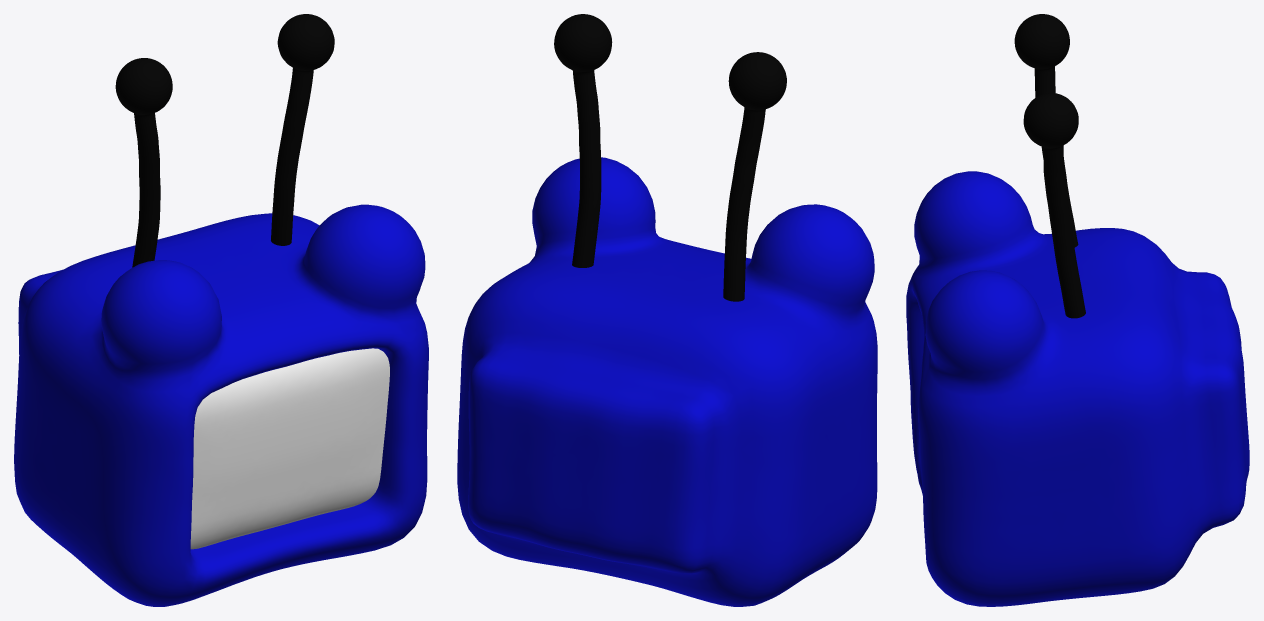
File: tvhead.obj
The picture shows the model from 3 angles, left to right: view 1: azimuth 30°, elevation 25°; view 2: azimuth 150°, elevation 25°; view 3: azimuth 270°, elevation 25°; orthographic projection. The views are drawn at different scales.
Visible parts, largest first — view 1: Retopo_Layer_1.001_mesh.053, Retopo_Layer_2.004_mesh.052, Retopo_Layer_18.001_mesh.051; view 2: Retopo_Layer_1.001_mesh.053, Retopo_Layer_18.001_mesh.051; view 3: Retopo_Layer_1.001_mesh.053, Retopo_Layer_18.001_mesh.051.
Boxes of the visible parts, x1,y1,x2,y2 form: Retopo_Layer_1.001_mesh.053: [14, 204, 428, 606]; Retopo_Layer_2.004_mesh.052: [190, 348, 389, 549]; Retopo_Layer_18.001_mesh.051: [115, 14, 334, 267]; Retopo_Layer_1.001_mesh.053: [457, 157, 877, 606]; Retopo_Layer_18.001_mesh.051: [554, 14, 786, 301]; Retopo_Layer_1.001_mesh.053: [906, 171, 1249, 606]; Retopo_Layer_18.001_mesh.051: [1014, 14, 1085, 318].
Bounding box in the file's own units: 0.2485 × 0.3691 × 0.2324.
